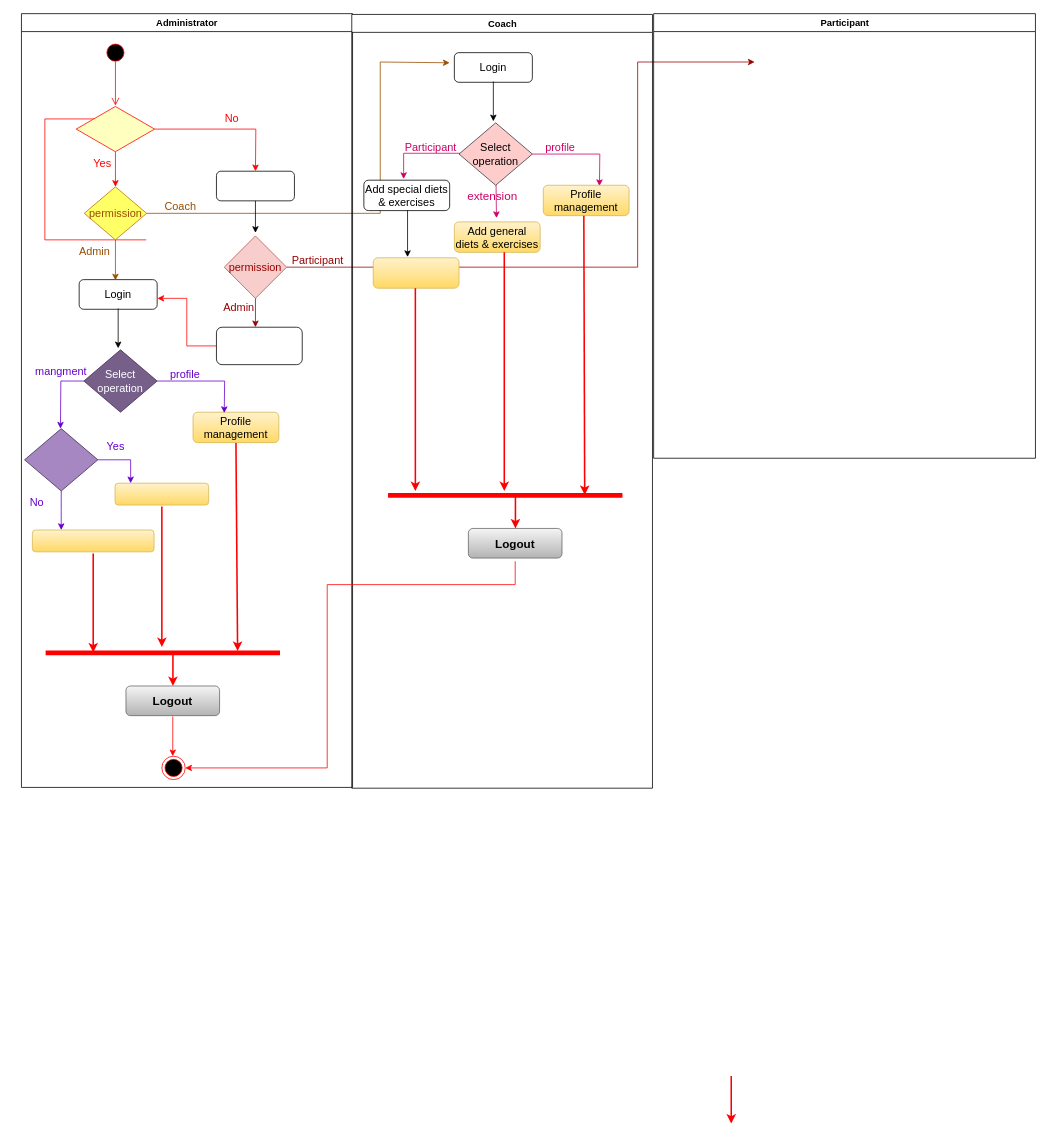
Image size: 1049x1144. Some labels were removed from this diagram. Each missing label, with the box of its shape:
Coaches management: (32, 529, 154, 552)
Create admin account: (216, 326, 302, 365)
Gym management: (114, 482, 209, 505)
Gyms?: (24, 428, 98, 491)
have account?: (75, 106, 155, 152)
Prepare weekly reports: (372, 257, 459, 288)
Register: (216, 170, 294, 201)
